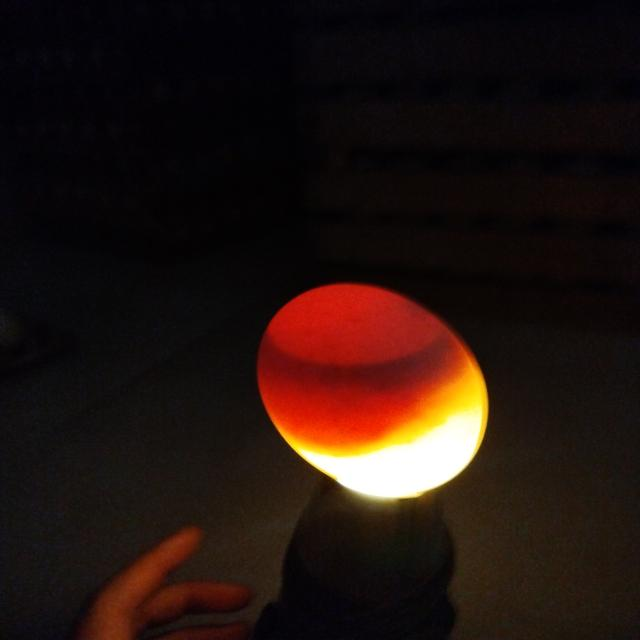Area Infectada: (257, 330, 449, 391)
